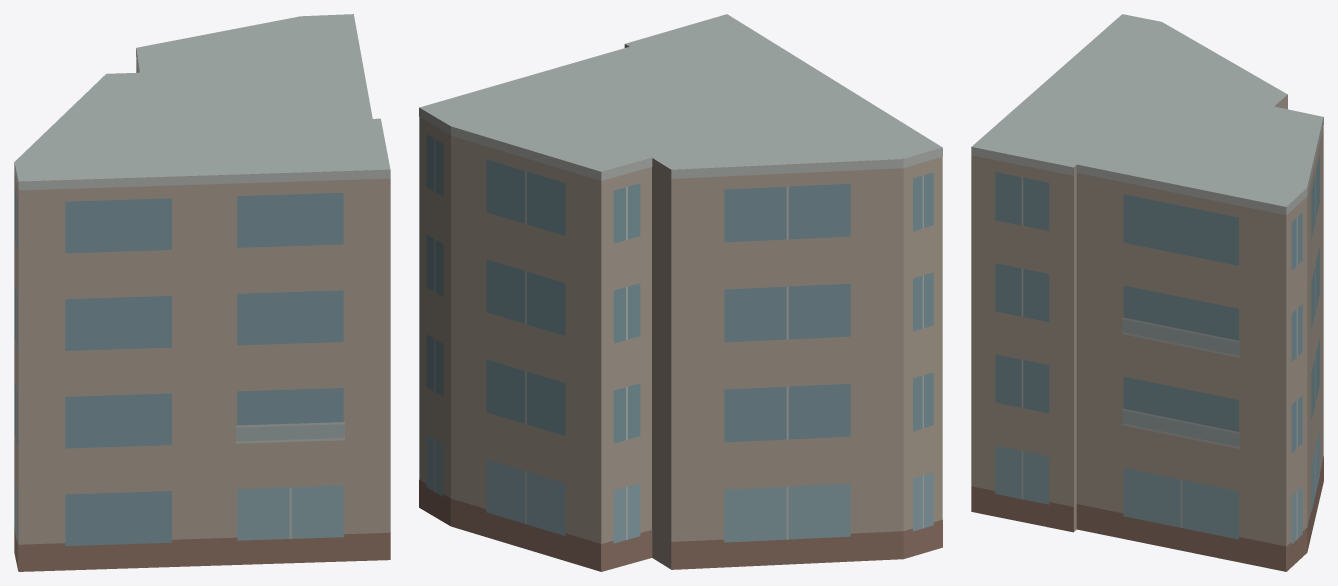
Rendered from survey-upis-32531375.glb.
3 views of the same model, side by side, from view 1: azimuth 30°, elevation 25°; view 2: azimuth 150°, elevation 25°; view 3: azimuth 270°, elevation 25° (orthographic). The views are drawn at different scales.
Parts seen in each view (by area): view 1: survey-upis-32531375.tmp; view 2: survey-upis-32531375.tmp; view 3: survey-upis-32531375.tmp.
Part boxes in pixels (<box>): survey-upis-32531375.tmp: <box>14,14,390,571</box>; survey-upis-32531375.tmp: <box>419,14,942,571</box>; survey-upis-32531375.tmp: <box>971,14,1323,571</box>.
Bounding box in the file's own units: 12.15 × 10.7 × 9.37.
